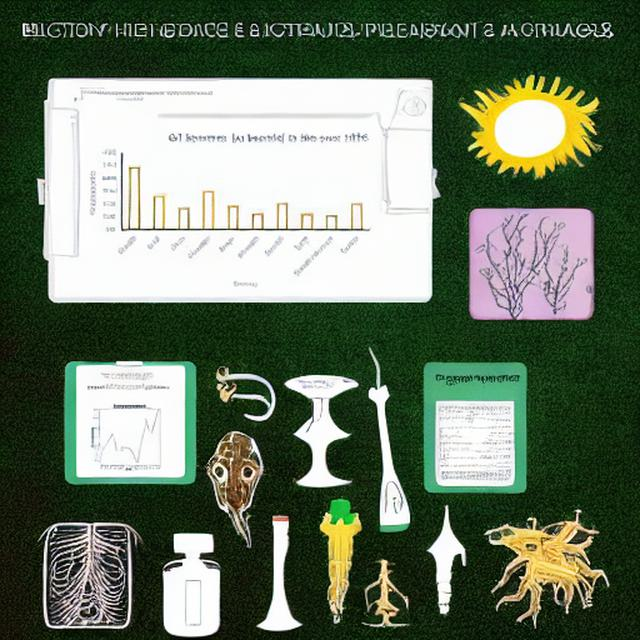Graph: (83, 124, 377, 299), (80, 400, 177, 473)
